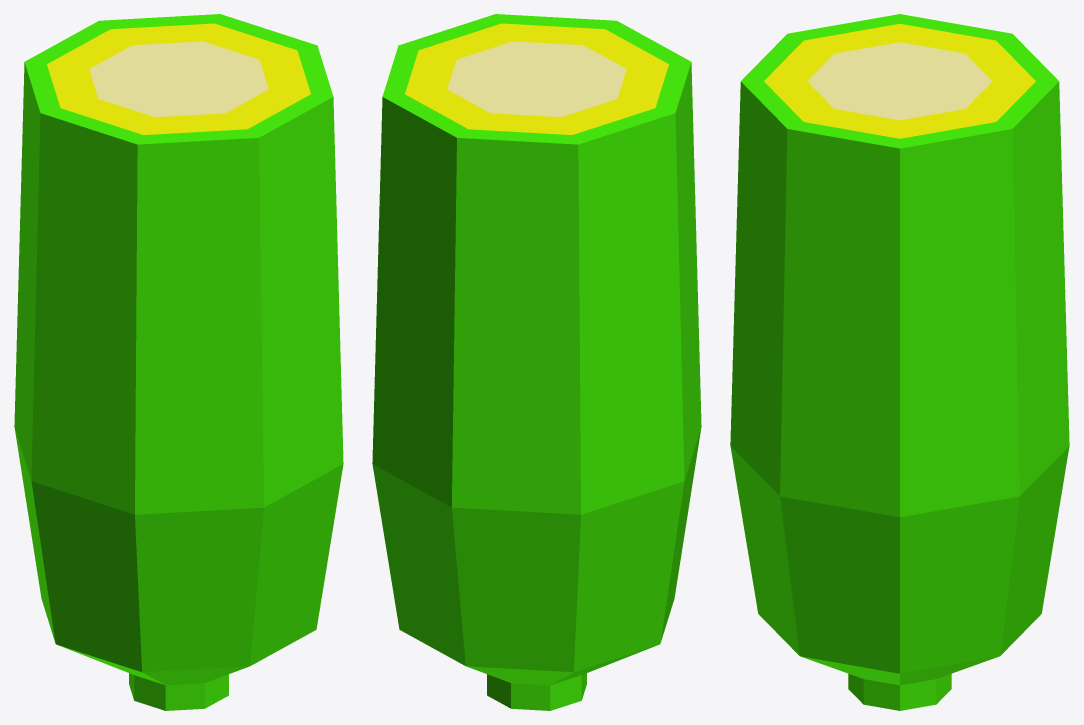
File: corn02.obj
3 views of the same model, side by side, from view 1: azimuth 30°, elevation 25°; view 2: azimuth 150°, elevation 25°; view 3: azimuth 270°, elevation 25° (orthographic).
Parts seen in each view (by area): view 1: Cylinder; view 2: Cylinder; view 3: Cylinder.
Part boxes in pixels (left/top/right/bottom): Cylinder: left=14, top=14, right=343, bottom=710; Cylinder: left=372, top=14, right=701, bottom=710; Cylinder: left=730, top=14, right=1069, bottom=710.
Bounding box in the file's own units: 0.0729 × 0.1442 × 0.0729.
1 material, 1 textured.
